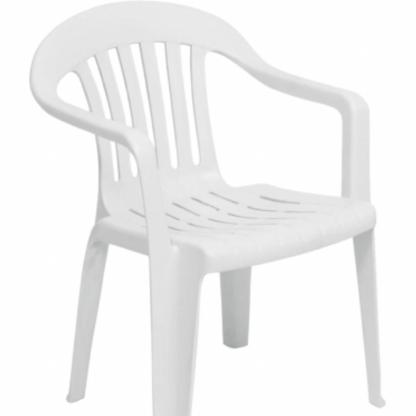chair: (28, 3, 394, 416)
